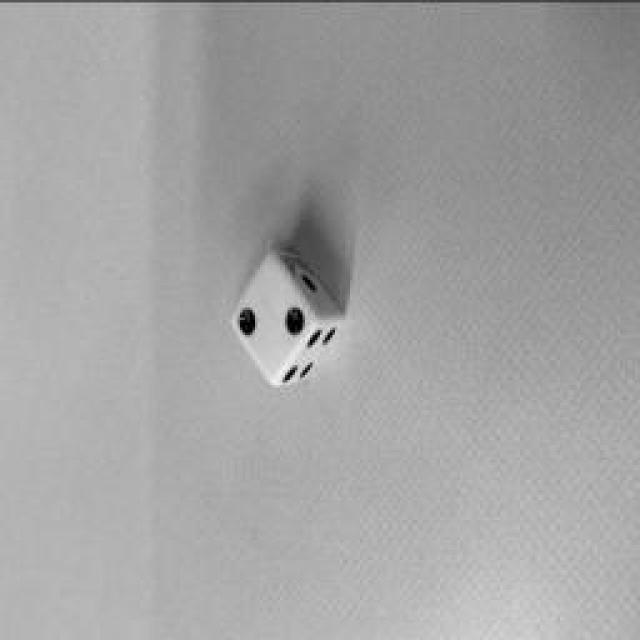dice_2: (232, 251, 316, 384)
